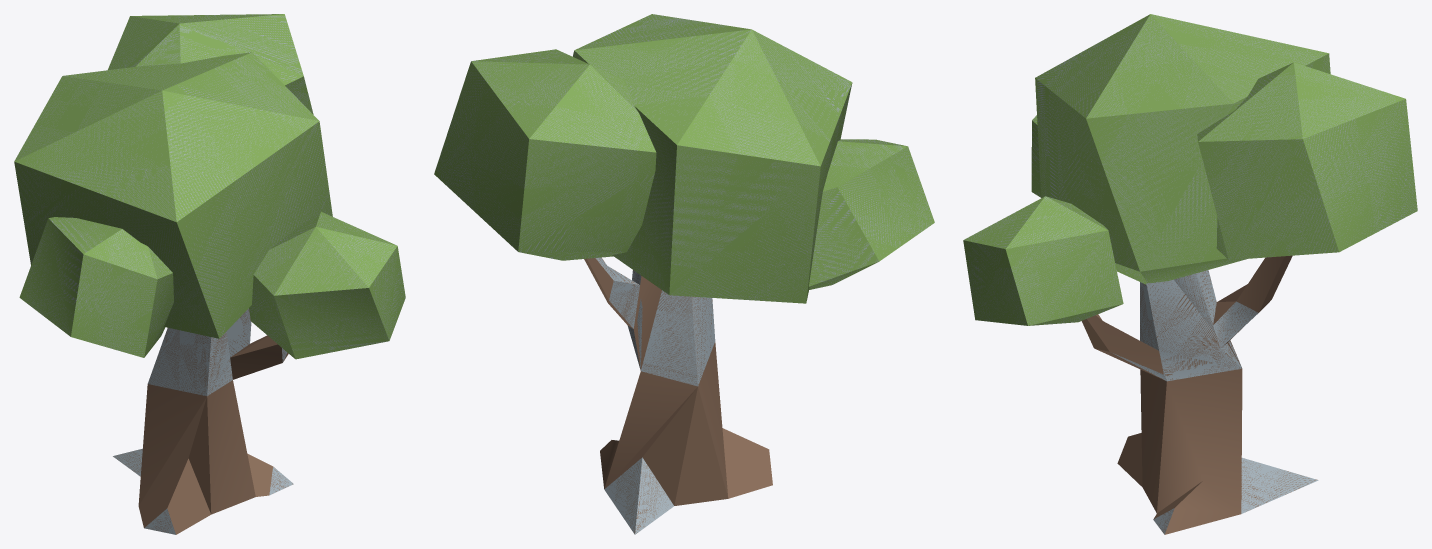
The model's file is Tree_Gum_05.fbx.
The picture shows the model from 3 angles, left to right: view 1: azimuth 30°, elevation 25°; view 2: azimuth 150°, elevation 25°; view 3: azimuth 270°, elevation 25°; orthographic projection. The views are drawn at different scales.
Visible parts, largest first — view 1: Model; view 2: Model; view 3: Model.
Part boxes in pixels (left/top/right/bottom): Model: left=14, top=14, right=405, bottom=534; Model: left=434, top=14, right=934, bottom=534; Model: left=963, top=14, right=1417, bottom=534.
Size of the model in its own units: 352 by 419 by 384.
